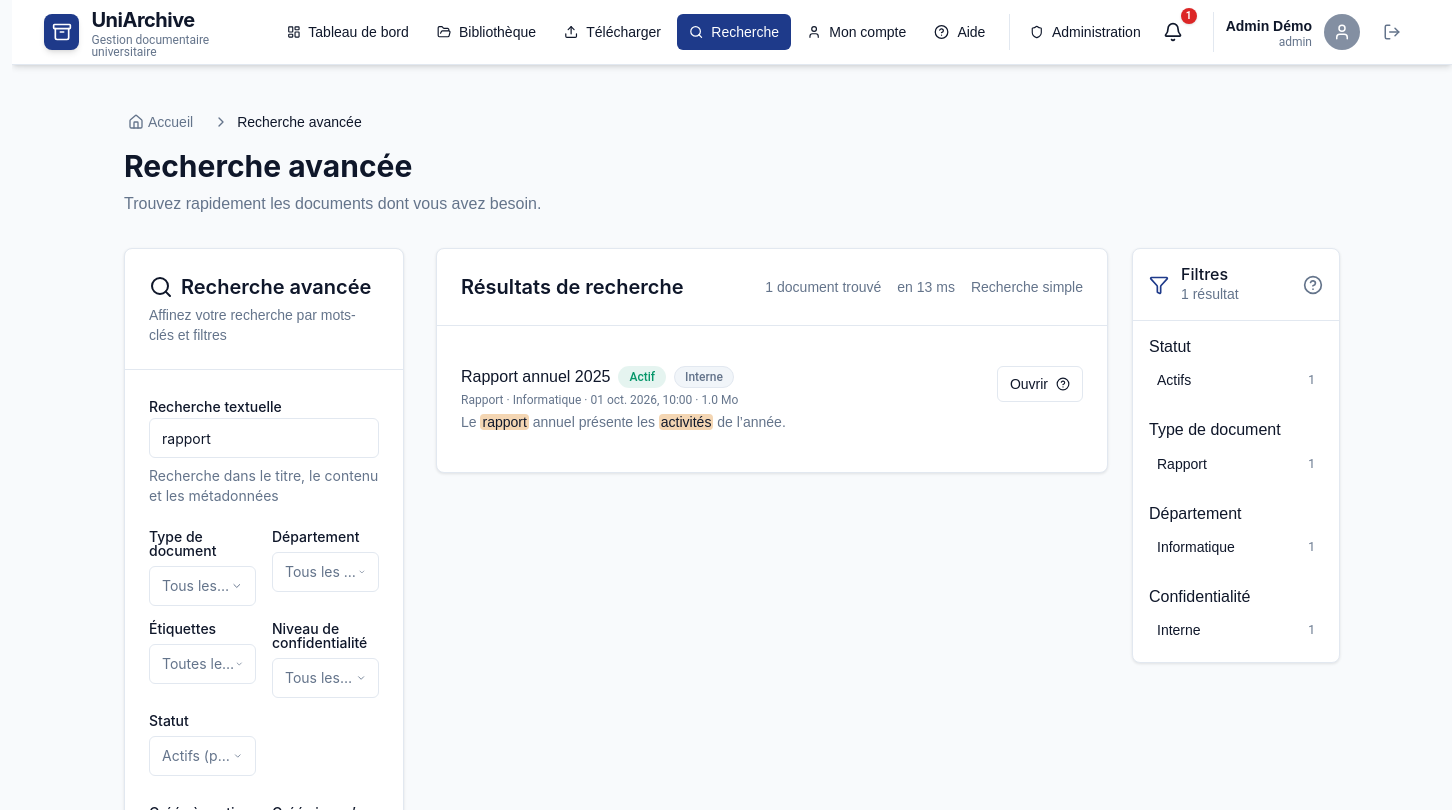
Scenario: page advanced-search (F5) › une URL copiée rouvre la vue et une facette filtre sans perdre les mots-clés
This screenshot has width=1452, height=810.
Check: the heading "Rapport annuel 2025" is shown, box [461,367,610,387]
Click the button "Informatique 1" at (1236, 547), box [1149,531,1323,563]
(page scrolled)
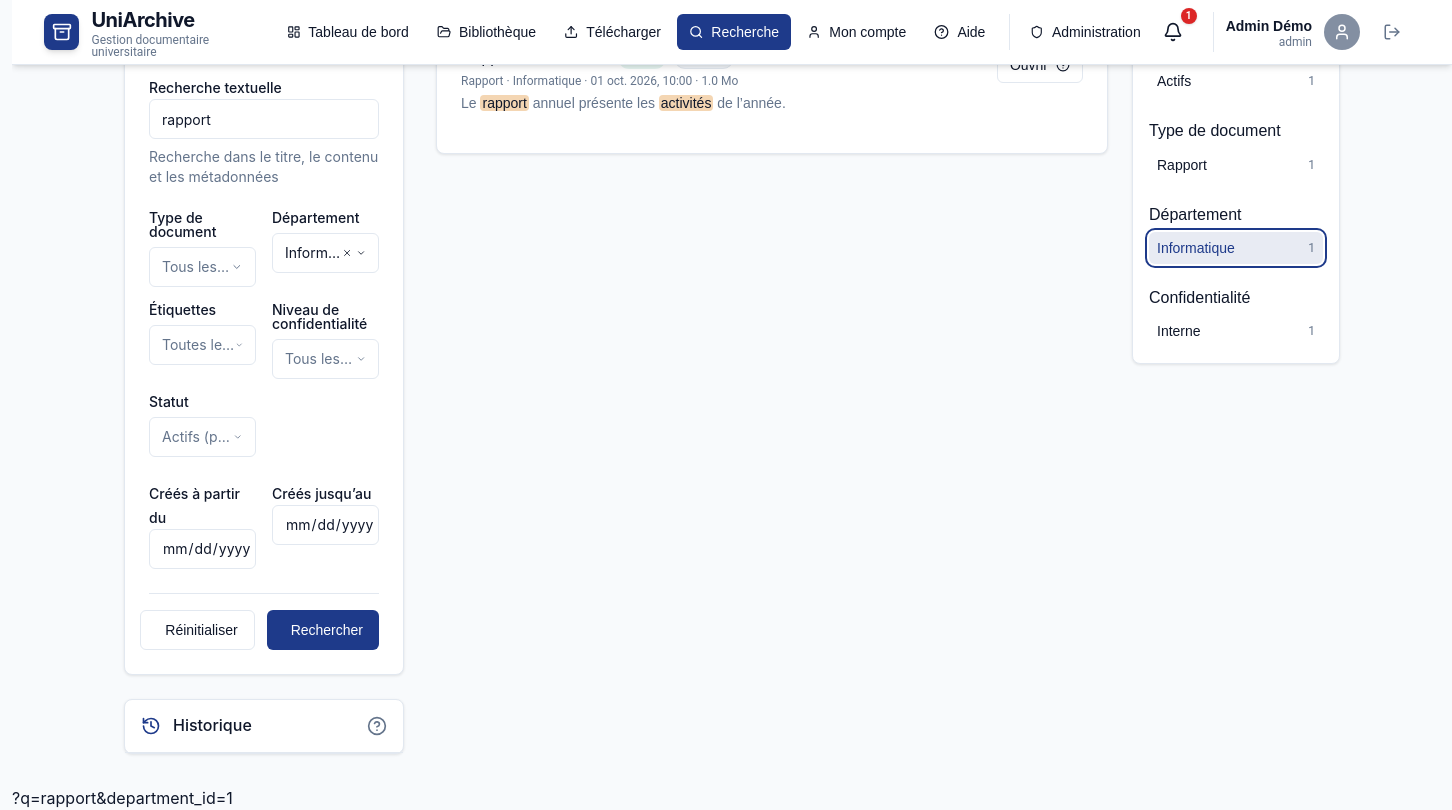
Check: the text with test id "location-search" shows "q=rapport", box [12,788,233,808]
Check: the text with test id "location-search" shows "department_id=1", box [12,788,233,808]
